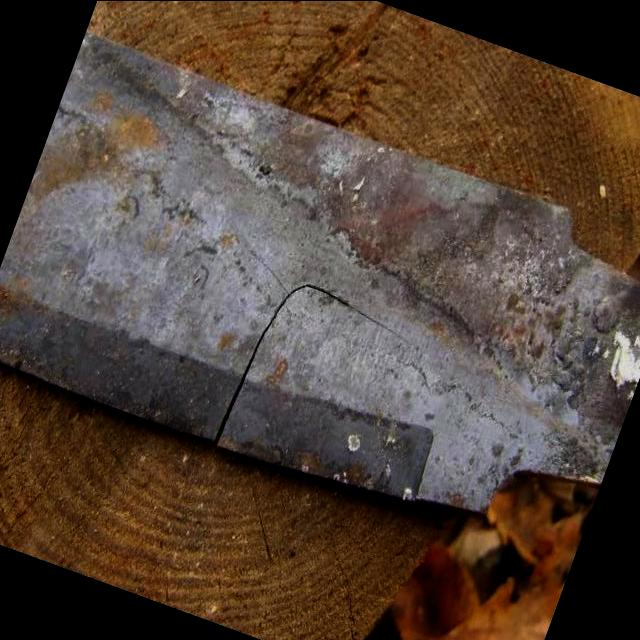defect: (212, 277, 411, 442)
